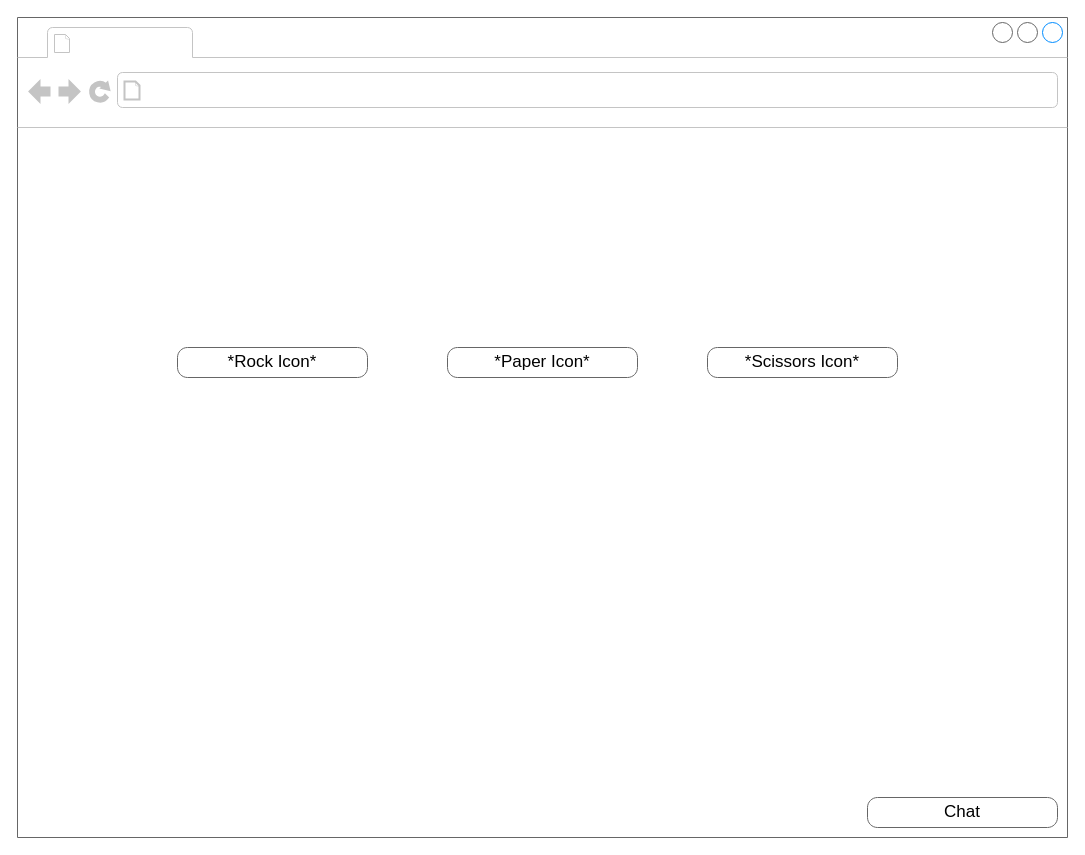
Some shapes in this 1085 by 855 pixel diagram are drawn without their labels. Here are the shapes that lost their labels. From the top down, the centre of each, then its label:
(132,42): Rock Paper Scissors
(372,90): http://localhost/Assignment/page/rock_paper_scissors.php
